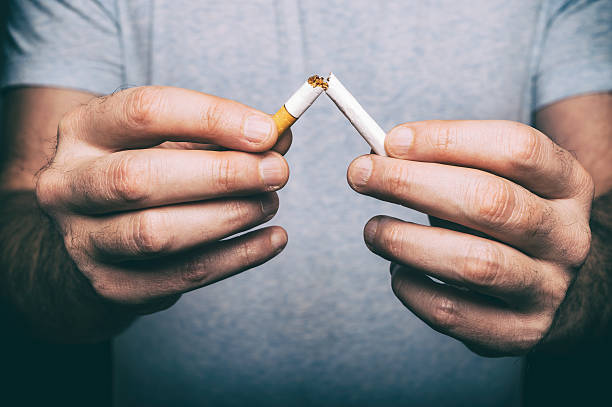cigarette: (322, 73, 392, 158), (271, 75, 322, 137)
